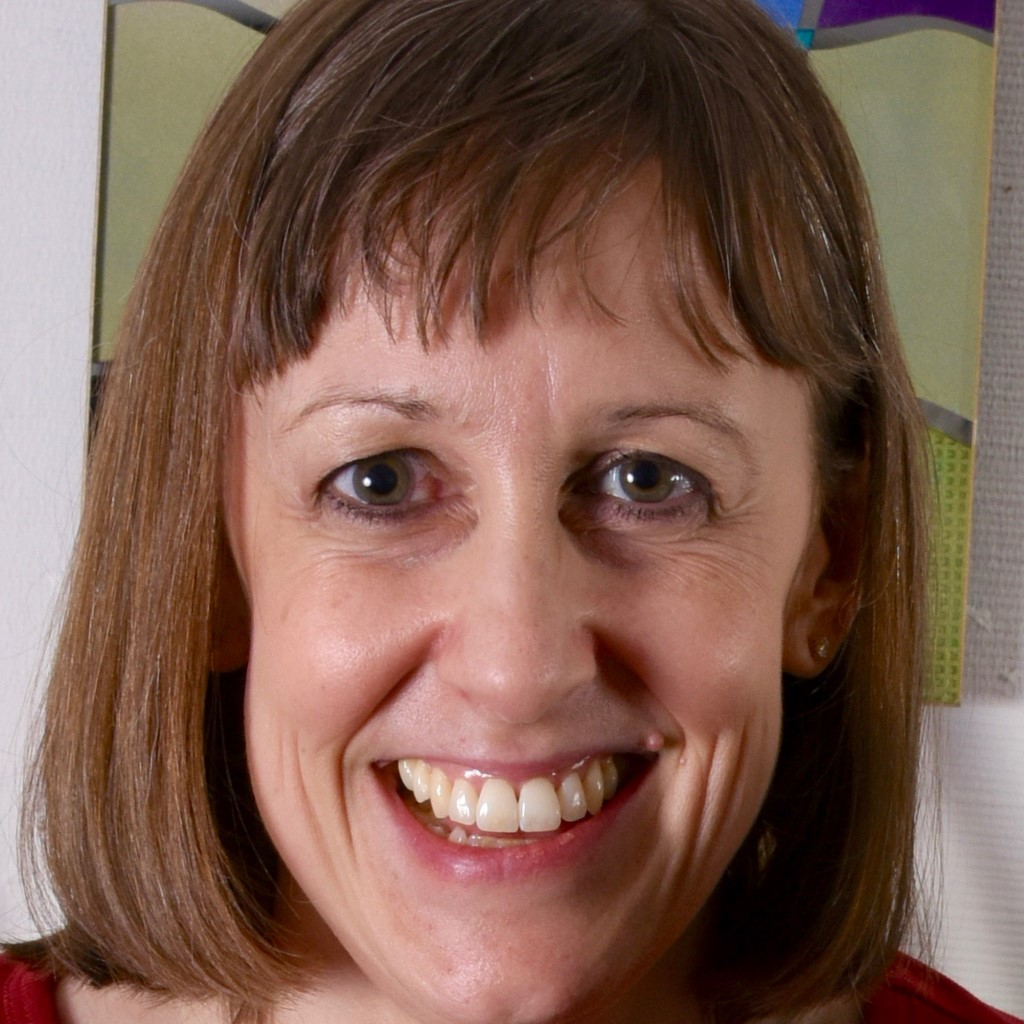sin_mascara: (175, 100, 843, 1015)
